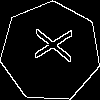X: (25, 27, 73, 63)
